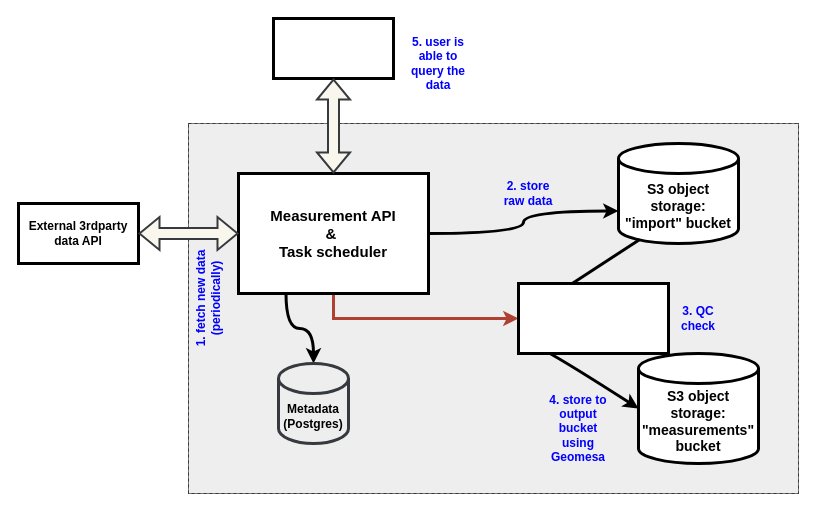
Some shapes in this 816 by 511 pixel diagram are drawn without their labels. The shapes that lost their labels are listed below. From the top down, each one's centre as x and y in pixels, then its label:
At (x=333, y=48): "Data user, fetches data from OGC EDR API".
At (x=593, y=318): "QC RUN (TitanLib task)".
